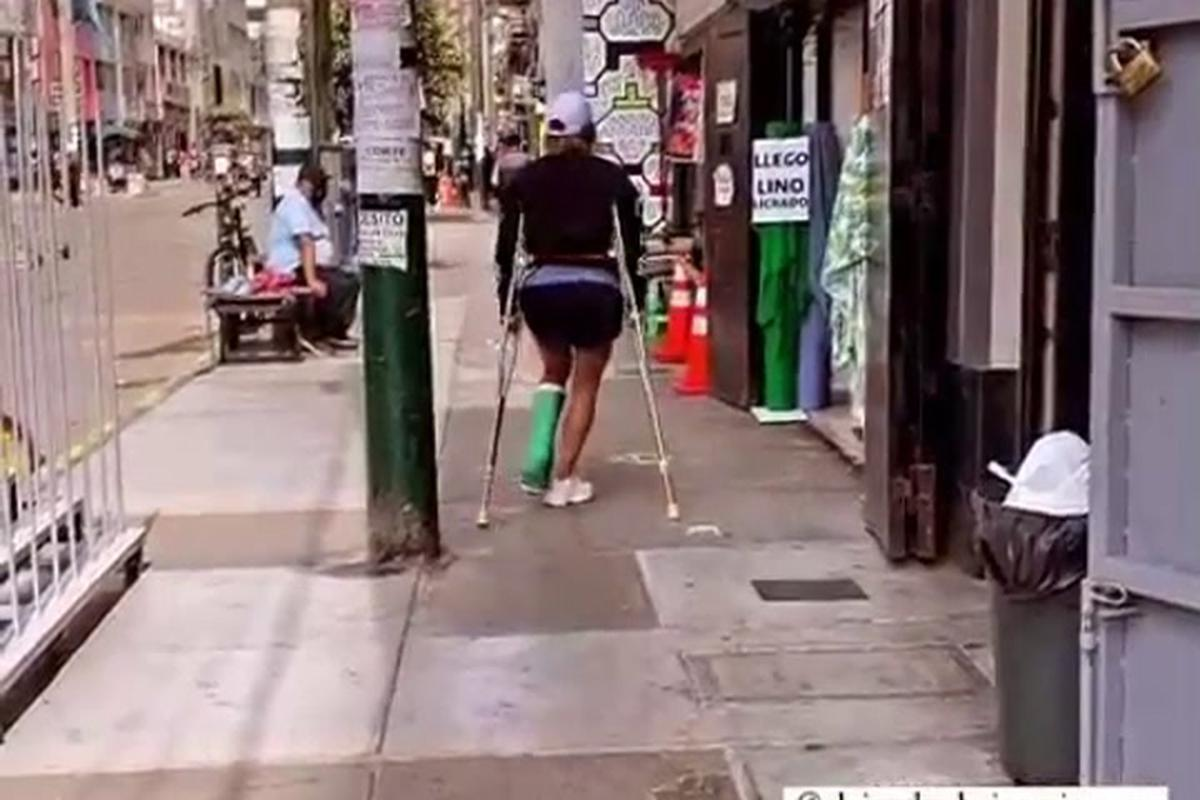crutches: (476, 91, 682, 528)
